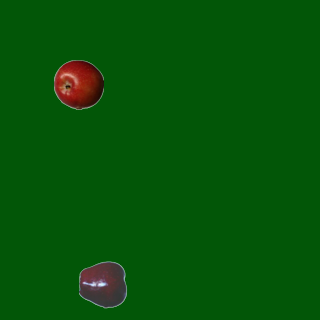Apple Braeburn: (53, 59, 103, 109)
Apple Red Delicious: (78, 259, 128, 309)
